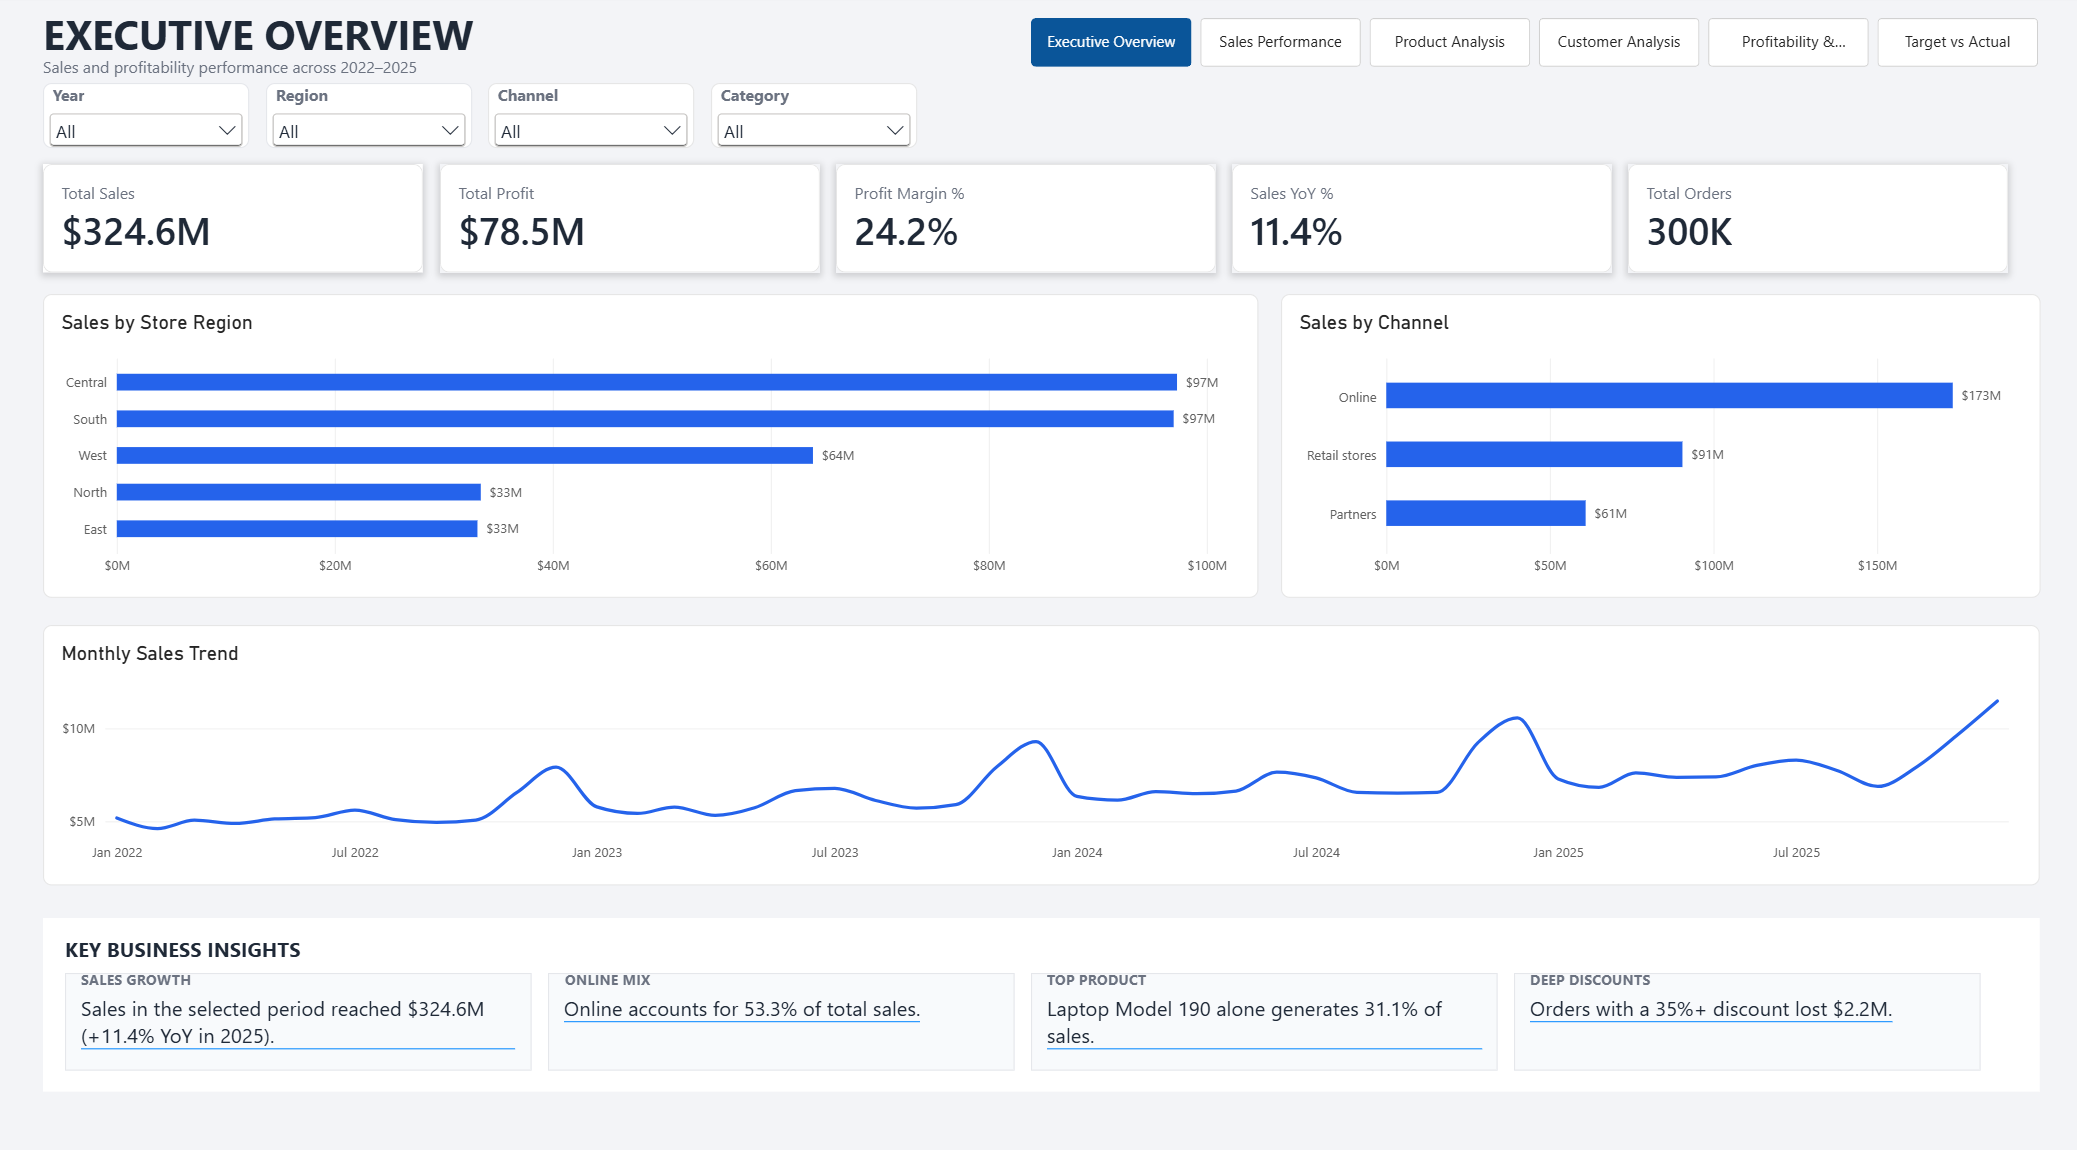

This screenshot's page, from the dashboard's own definition file:
{"tool":"powerbi","page":{"name":"Executive Overview","canvas":[1920,1080],"ordinal":0},"visuals":[{"type":"cardVisual","fields":{"Data":["_Measures.Total Sales"]},"box":[40,155,350,100],"z":0},{"type":"cardVisual","fields":{"Data":["_Measures.Total Profit"]},"box":[405,155,350,100],"z":1000},{"type":"cardVisual","fields":{"Data":["_Measures.Profit Margin %"]},"box":[770,155,350,100],"z":2000},{"type":"cardVisual","fields":{"Data":["_Measures.Total Orders"]},"box":[1500,155.1,350,100],"z":3000},{"type":"cardVisual","fields":{"Data":["_Measures.Sales YoY %"]},"box":[1135,155.1,350,100],"z":4000},{"type":"lineChart","title":"Monthly Sales Trend","fields":{"Category":["DimDate.YearMonth"],"Y":["_Measures.Total Sales"]},"box":[40,580,1840,240],"z":5000},{"type":"barChart","title":"Sales by Store Region","fields":{"Category":["DimStores.Region"],"Y":["_Measures.Total Sales"]},"box":[40,275,1120,280],"z":6000},{"type":"barChart","title":"Sales by Channel","fields":{"Category":["FactSales.Channel"],"Y":["_Measures.Total Sales"]},"box":[1180,275,700,280],"z":7000},{"type":"slicer","fields":{"Values":["DimDate.Year"]},"box":[40,80,190,60],"z":8000},{"type":"slicer","fields":{"Values":["DimRegion.Region"]},"box":[245,80,190,60],"z":9000},{"type":"slicer","fields":{"Values":["FactSales.Channel"]},"box":[450,80,190,60],"z":10000},{"type":"slicer","fields":{"Values":["DimProducts.Category"]},"box":[655,80,190,60],"z":11000},{"type":"pageNavigator","box":[950,20,930,45.2],"z":12000},{"type":"textbox","box":[40,10,700,50],"z":13000},{"type":"shape","box":[40,850,1840,160],"z":14000},{"type":"textbox","box":[60,865,500,25],"z":15000},{"type":"shape","box":[60,900,430,90],"z":16000},{"type":"shape","box":[505,900,430,90],"z":17000},{"type":"shape","box":[950,900.1,430,90],"z":18000},{"type":"shape","box":[1395,900.1,430,90],"z":19000},{"type":"textbox","box":[75,897,400,20],"z":20000},{"type":"textbox","box":[75,920,400,60],"z":21000},{"type":"textbox","box":[520.2,897,400,20],"z":22000},{"type":"textbox","box":[520,920,400,60],"z":23000},{"type":"textbox","box":[965.1,896.8,399.5,20],"z":24000},{"type":"textbox","box":[964.8,919.7,400.9,59.9],"z":25000},{"type":"textbox","box":[1410,897,400,20],"z":26000},{"type":"textbox","box":[1410,920,400,60],"z":27000},{"type":"textbox","box":[40,55,800,20],"z":28000}]}

Visuals, with their boxes in screenshot pixels (x1, y1, x2, y2), scaled from the page's 1920x1080 canvas onto the 2077x1150 screenshot:
cardVisual - _Measures.Total Sales: 43:165:422:272
cardVisual - _Measures.Total Profit: 438:165:817:272
cardVisual - _Measures.Profit Margin %: 833:165:1212:272
cardVisual - _Measures.Total Orders: 1623:165:2001:272
cardVisual - _Measures.Sales YoY %: 1228:165:1606:272
"Monthly Sales Trend" lineChart: 43:618:2034:873
"Sales by Store Region" barChart: 43:293:1255:591
"Sales by Channel" barChart: 1276:293:2034:591
slicer - DimDate.Year: 43:85:249:149
slicer - DimRegion.Region: 265:85:471:149
slicer - FactSales.Channel: 487:85:692:149
slicer - DimProducts.Category: 709:85:914:149
pageNavigator: 1028:21:2034:69
textbox: 43:11:801:64
shape: 43:905:2034:1075
textbox: 65:921:606:948
shape: 65:958:530:1054
shape: 546:958:1011:1054
shape: 1028:958:1493:1054
shape: 1509:958:1974:1054
textbox: 81:955:514:976
textbox: 81:980:514:1044
textbox: 563:955:995:976
textbox: 563:980:995:1044
textbox: 1044:955:1476:976
textbox: 1044:979:1477:1043
textbox: 1525:955:1958:976
textbox: 1525:980:1958:1044
textbox: 43:59:909:80
